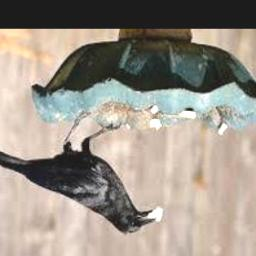Crow: (0, 113, 162, 235)
